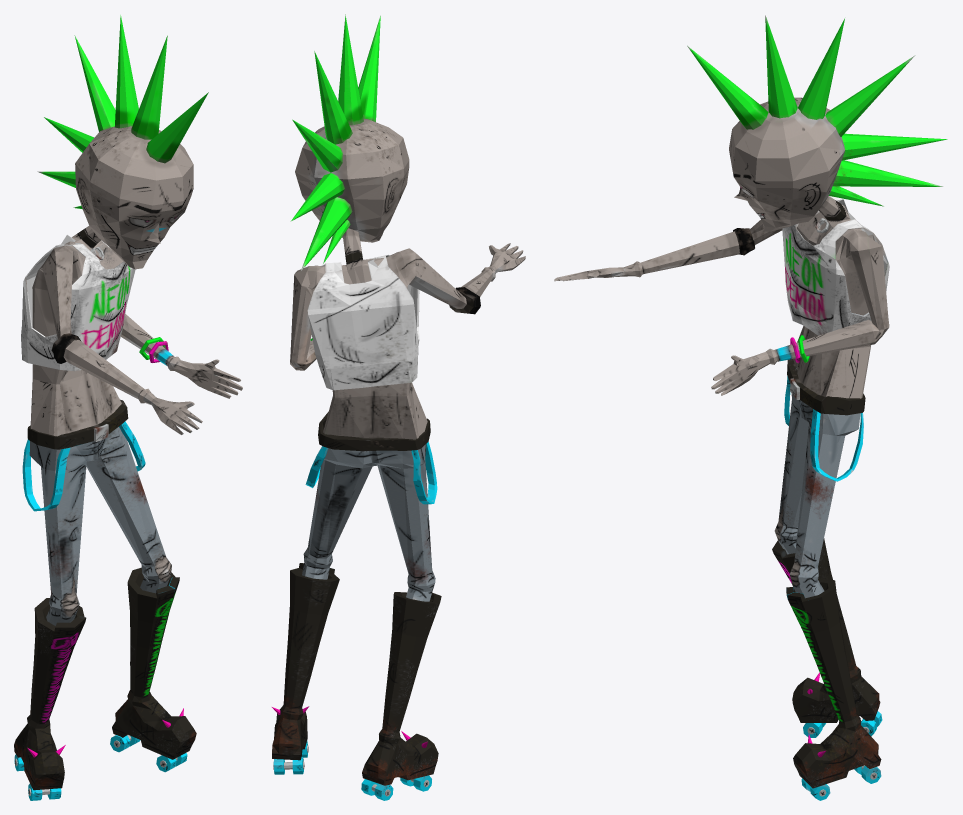
The model's file is punkAnimation_000010.obj.
3 views of the same model, side by side, from view 1: azimuth 30°, elevation 25°; view 2: azimuth 150°, elevation 25°; view 3: azimuth 270°, elevation 25° (orthographic). The views are drawn at different scales.
Parts seen in each view (by area): view 1: Cube.004_Cube.003; view 2: Cube.004_Cube.003; view 3: Cube.004_Cube.003.
Boxes of the visible parts, <box> form: Cube.004_Cube.003: <box>14,15,242,800</box>; Cube.004_Cube.003: <box>272,14,525,800</box>; Cube.004_Cube.003: <box>554,15,947,800</box>.
Bounding box in the file's own units: 1.81 × 7.45 × 3.47.
